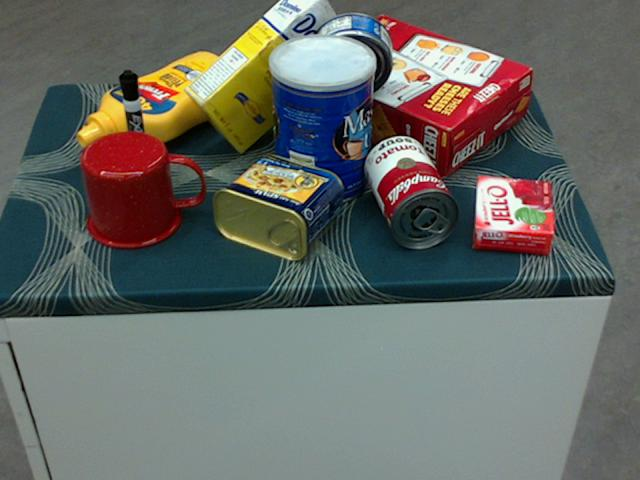cracker_box: (293, 13, 529, 177)
gelatin_box: (473, 176, 554, 251)
large_marker: (117, 70, 152, 178)
master_chef_can: (268, 35, 375, 206)
mug: (81, 130, 204, 249)
mustard_bottle: (75, 51, 243, 149)
potted_meat_can: (211, 154, 342, 260)
sugar_box: (181, 0, 355, 155)
tomato_soup_can: (364, 134, 458, 247)
tuna_fish_can: (311, 11, 392, 96)
